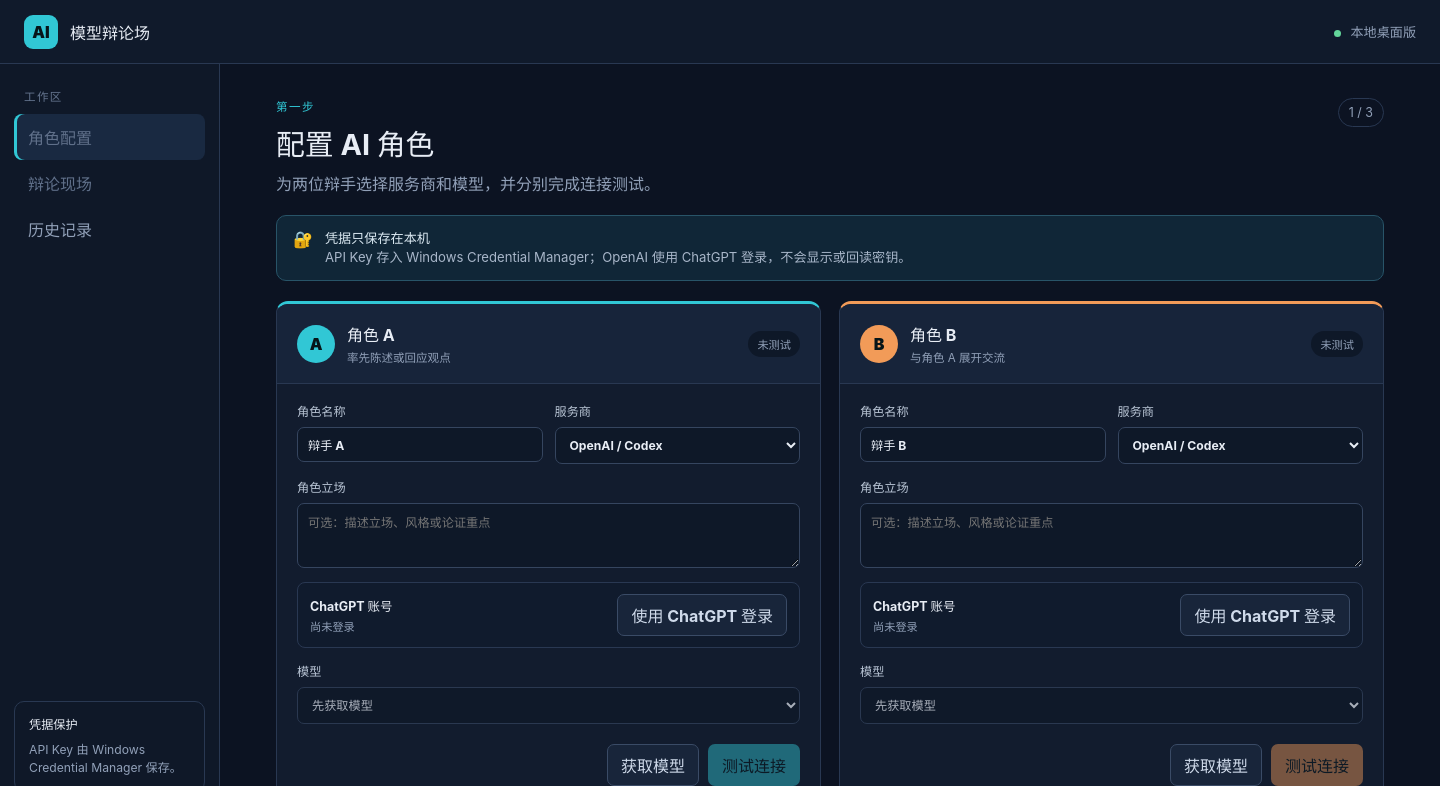
role configuration page › switches provider-specific fields and never offers an API key for OpenAI
Check: the button "使用 ChatGPT 登录" below "率先陈述或回应观点" is shown, box [617, 594, 787, 636]
Select "Kimi" in the dropdown labelled "服务商" below "率先陈述或回应观点": (677, 446) [554, 427, 800, 464]
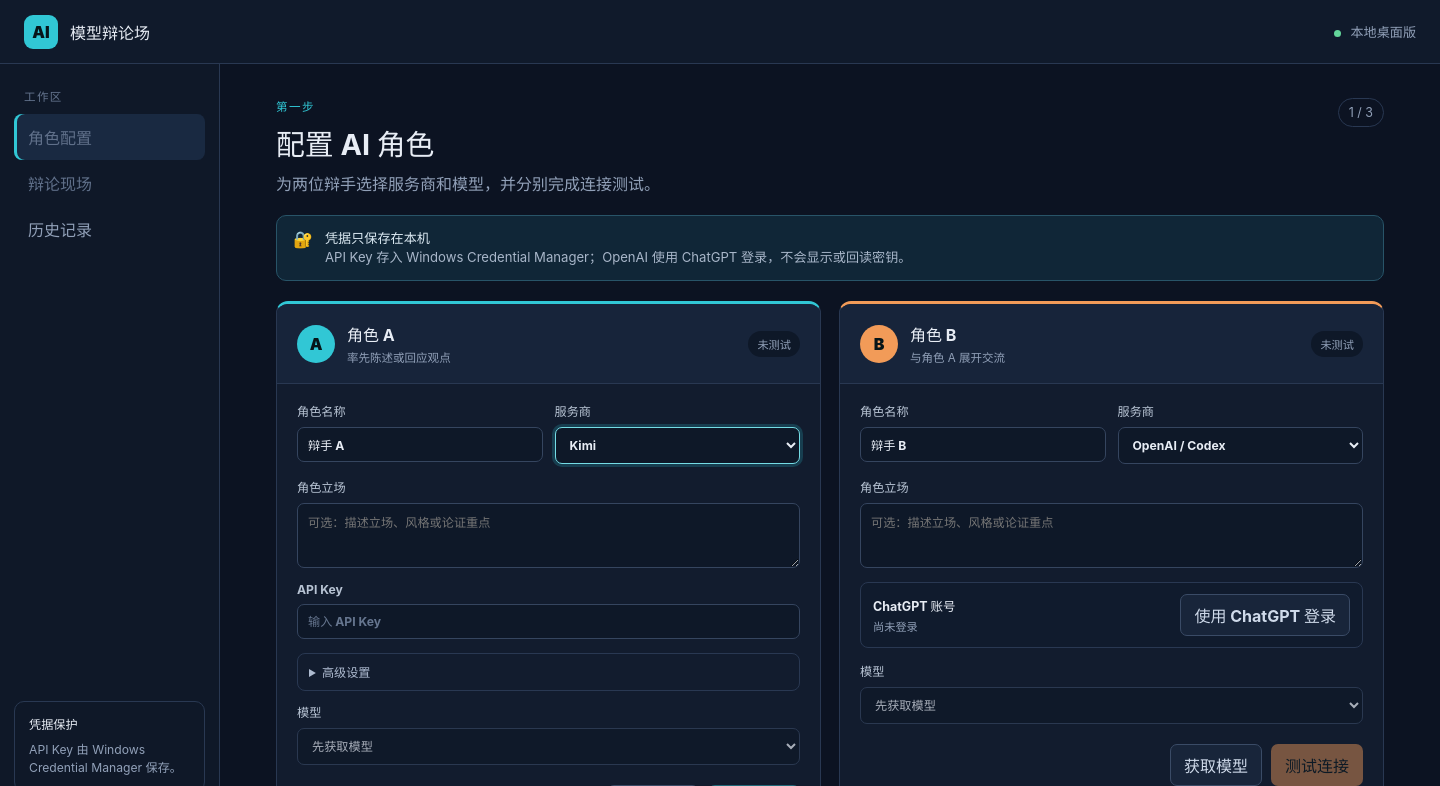
Check: the element named "Base URL" holds "https://api.moonshot.cn/v1", box [297, 653, 800, 691]
